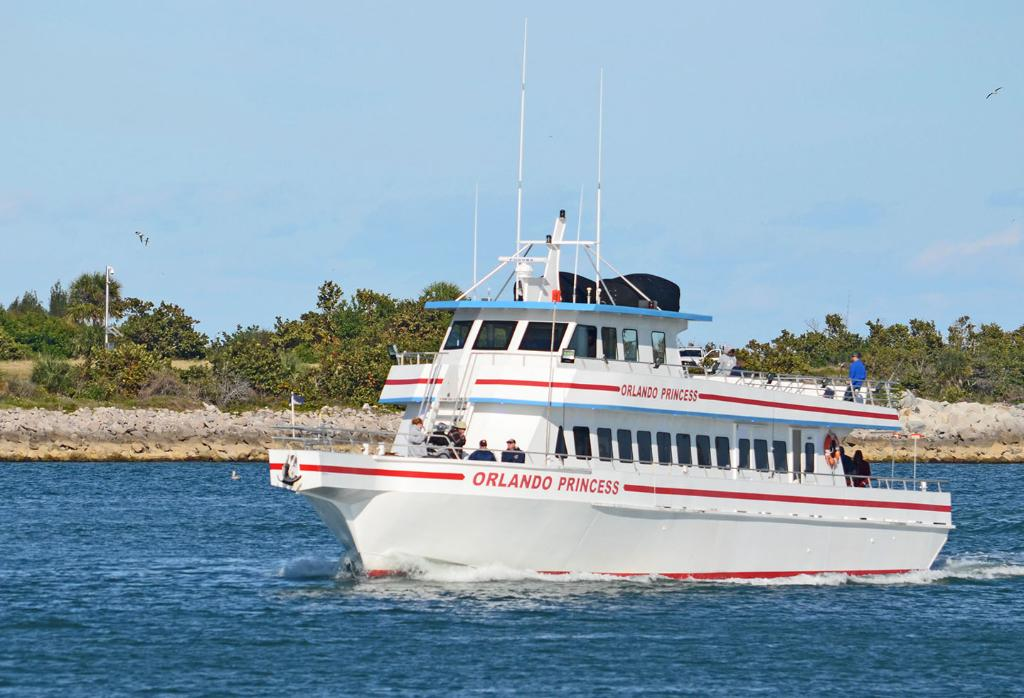PassengerShip: (258, 208, 968, 594)
